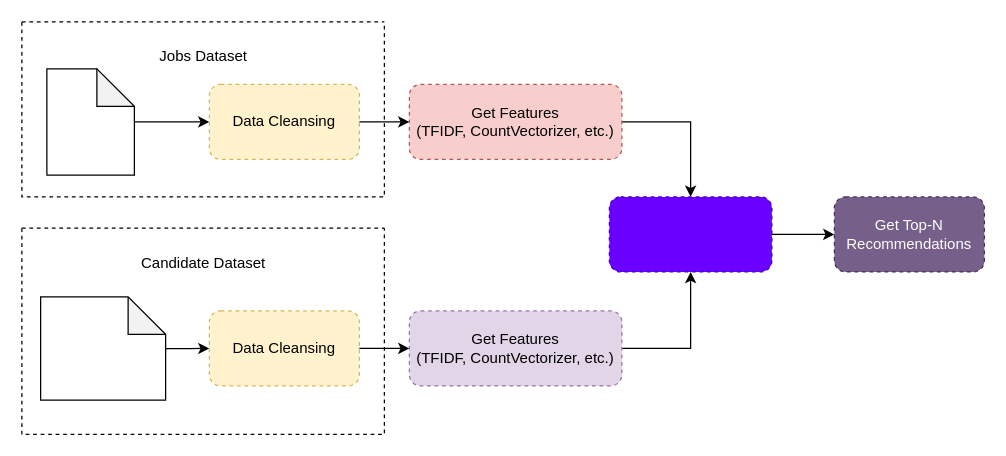
The diagram is 1006 pixels wide and 456 high, and some of its shapes have lost their labels. Each missing label, with the box of its shape:
candidate.json: (39, 296, 166, 400)
jobs.csv: (46, 68, 134, 175)
Similarity Function (Cosine Similarity): (608, 196, 772, 272)
